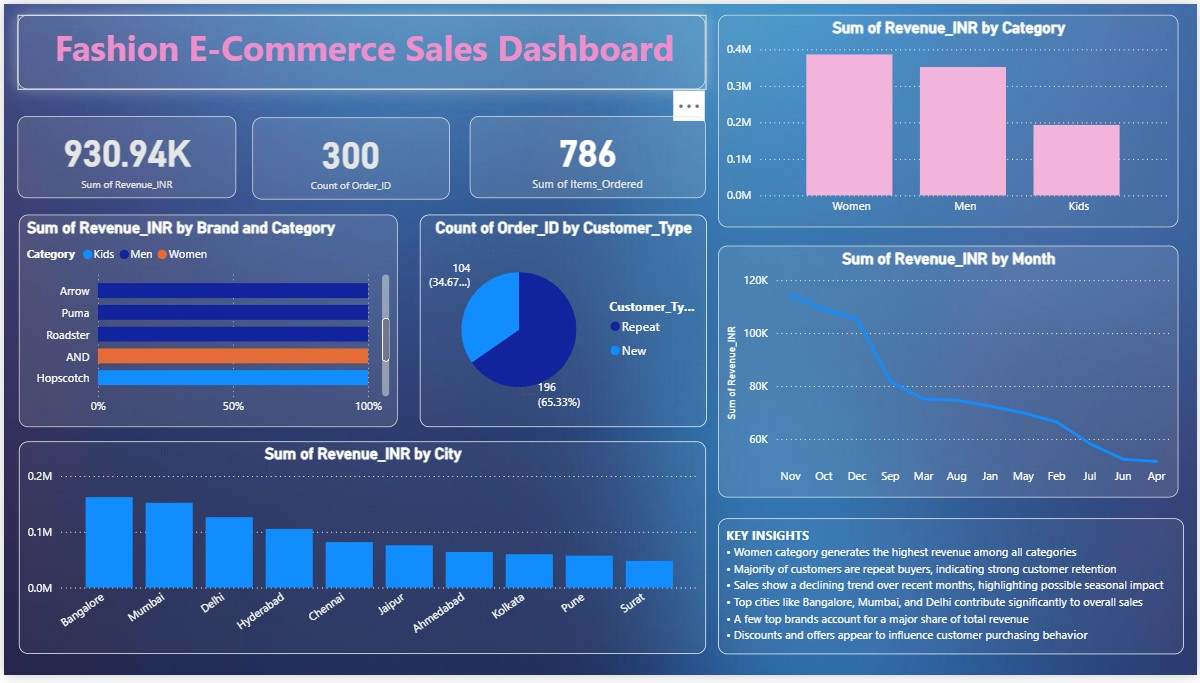

The dashboard page shown, as its layout file describes it:
{"tool":"powerbi","page":{"name":"Page 1","canvas":[1280,720],"ordinal":0},"visuals":[{"type":"card","fields":{"Values":["Sum(Sales_Data.Revenue_INR)"]},"box":[15,120,235,88.3],"z":0},{"type":"card","fields":{"Values":["CountNonNull(Sales_Data.Order_ID)"]},"box":[266.7,121.7,211.7,88.3],"z":1},{"type":"textbox","box":[15,11.7,738.3,80],"z":2},{"type":"card","fields":{"Values":["Sum(Sales_Data.Items_Ordered)"]},"box":[500,120,253.3,88.3],"z":3},{"type":"clusteredColumnChart","fields":{"Category":["Sales_Data.Category"],"Y":["Sum(Sales_Data.Revenue_INR)"]},"box":[766,12,494,228],"z":4},{"type":"lineChart","fields":{"Category":["Sales_Data.Month"],"Y":["Sum(Sales_Data.Revenue_INR)"]},"box":[766,260,494,270],"z":5},{"type":"pieChart","fields":{"Category":["Sales_Data.Customer_Type"],"Y":["CountNonNull(Sales_Data.Order_ID)"]},"box":[446,226,308,228],"z":6},{"type":"clusteredColumnChart","fields":{"Category":["Sales_Data.City"],"Y":["Sum(Sales_Data.Revenue_INR)"]},"box":[16,470,738,228],"z":7},{"type":"hundredPercentStackedBarChart","fields":{"Category":["Sales_Data.Brand"],"Y":["Sum(Sales_Data.Revenue_INR)"],"Series":["Sales_Data.Category"]},"box":[16,226,407,228],"z":8},{"type":"textbox","box":[766,552,500,146],"z":9}]}

Visuals, with their boxes in screenshot pixels (x1, y1, x2, y2), scaled from the page's 1280x720 canvas onto the 1200x683 screenshot:
card - Sum(Sales_Data.Revenue_INR): {"left": 14, "top": 114, "right": 234, "bottom": 198}
card - CountNonNull(Sales_Data.Order_ID): {"left": 250, "top": 115, "right": 448, "bottom": 199}
textbox: {"left": 14, "top": 11, "right": 706, "bottom": 87}
card - Sum(Sales_Data.Items_Ordered): {"left": 469, "top": 114, "right": 706, "bottom": 198}
clusteredColumnChart - Sales_Data.Category x Sum(Sales_Data.Revenue_INR): {"left": 718, "top": 11, "right": 1181, "bottom": 228}
lineChart - Sales_Data.Month x Sum(Sales_Data.Revenue_INR): {"left": 718, "top": 247, "right": 1181, "bottom": 503}
pieChart - Sales_Data.Customer_Type x CountNonNull(Sales_Data.Order_ID): {"left": 418, "top": 214, "right": 707, "bottom": 431}
clusteredColumnChart - Sales_Data.City x Sum(Sales_Data.Revenue_INR): {"left": 15, "top": 446, "right": 707, "bottom": 662}
hundredPercentStackedBarChart - Sales_Data.Brand x Sum(Sales_Data.Revenue_INR): {"left": 15, "top": 214, "right": 397, "bottom": 431}
textbox: {"left": 718, "top": 524, "right": 1187, "bottom": 662}
